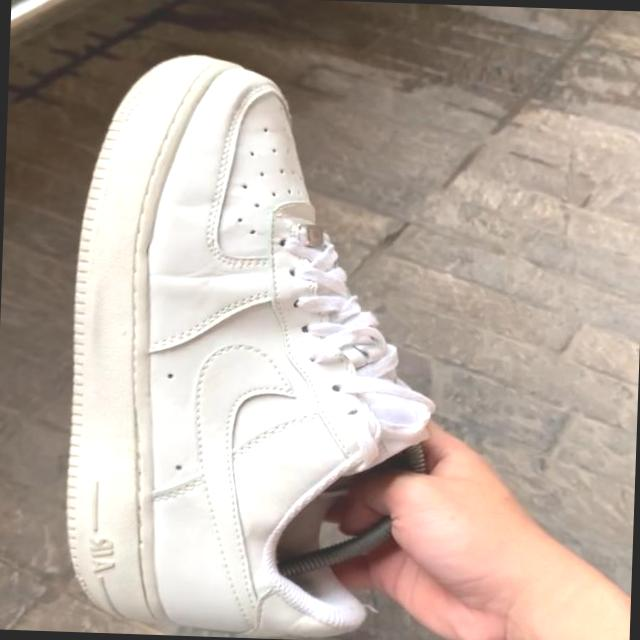nike_fake_airforce: (58, 47, 455, 640)
